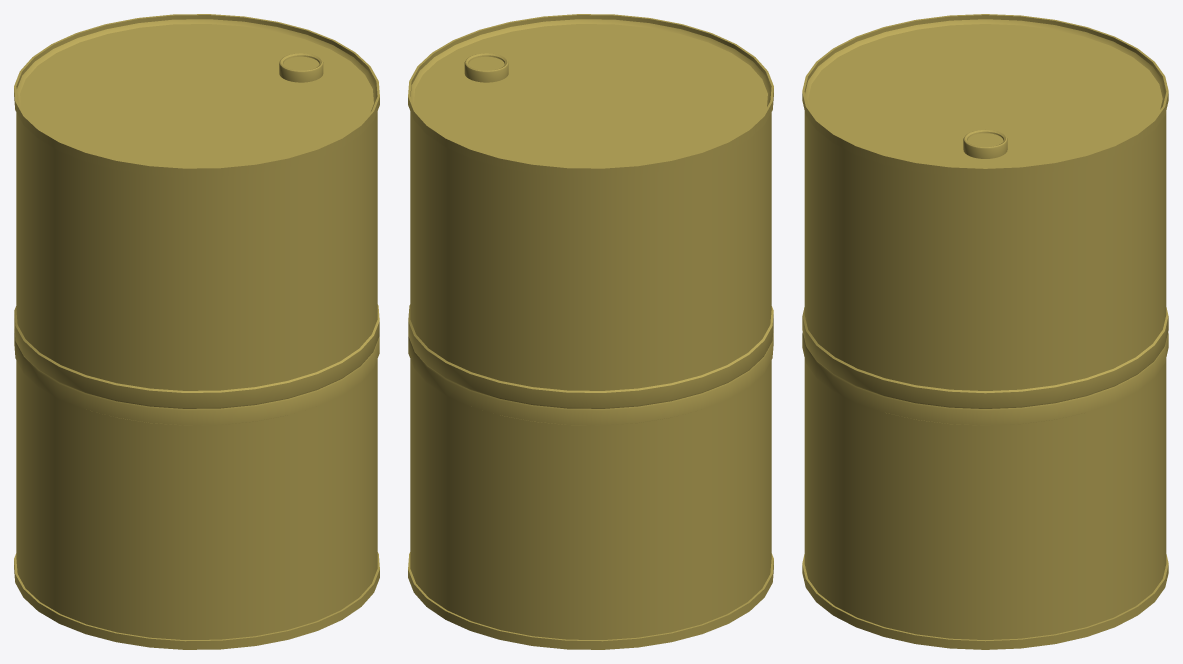
The model's file is Barrel.fbx.
The picture shows the model from 3 angles, left to right: view 1: azimuth 30°, elevation 25°; view 2: azimuth 150°, elevation 25°; view 3: azimuth 270°, elevation 25°; orthographic projection.
Parts seen in each view (by area): view 1: Barrel; view 2: Barrel; view 3: Barrel.
Part boxes in pixels (x1,y1,x2,y2): Barrel: [14, 14, 379, 649]; Barrel: [408, 14, 773, 649]; Barrel: [802, 14, 1168, 649].
Size of the model in its own units: 50.67 by 73.94 by 50.67.
